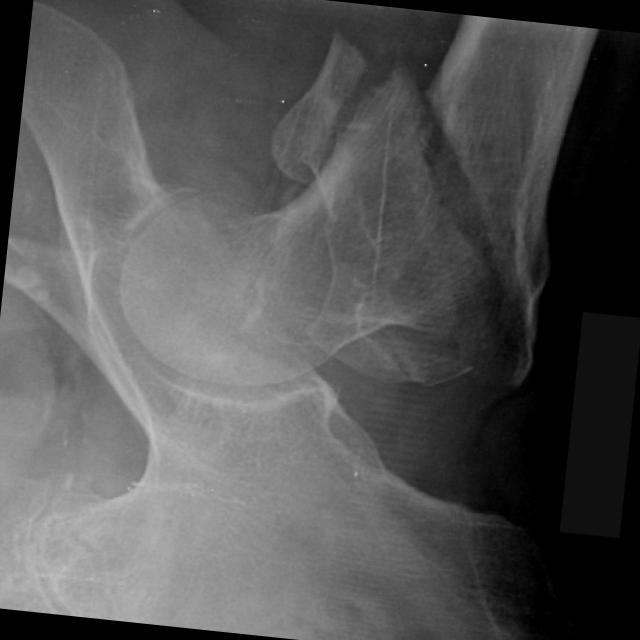right-intertrochanteric: (118, 62, 491, 386), (422, 13, 597, 387)
right-lesser-trochanter: (268, 24, 366, 181)
